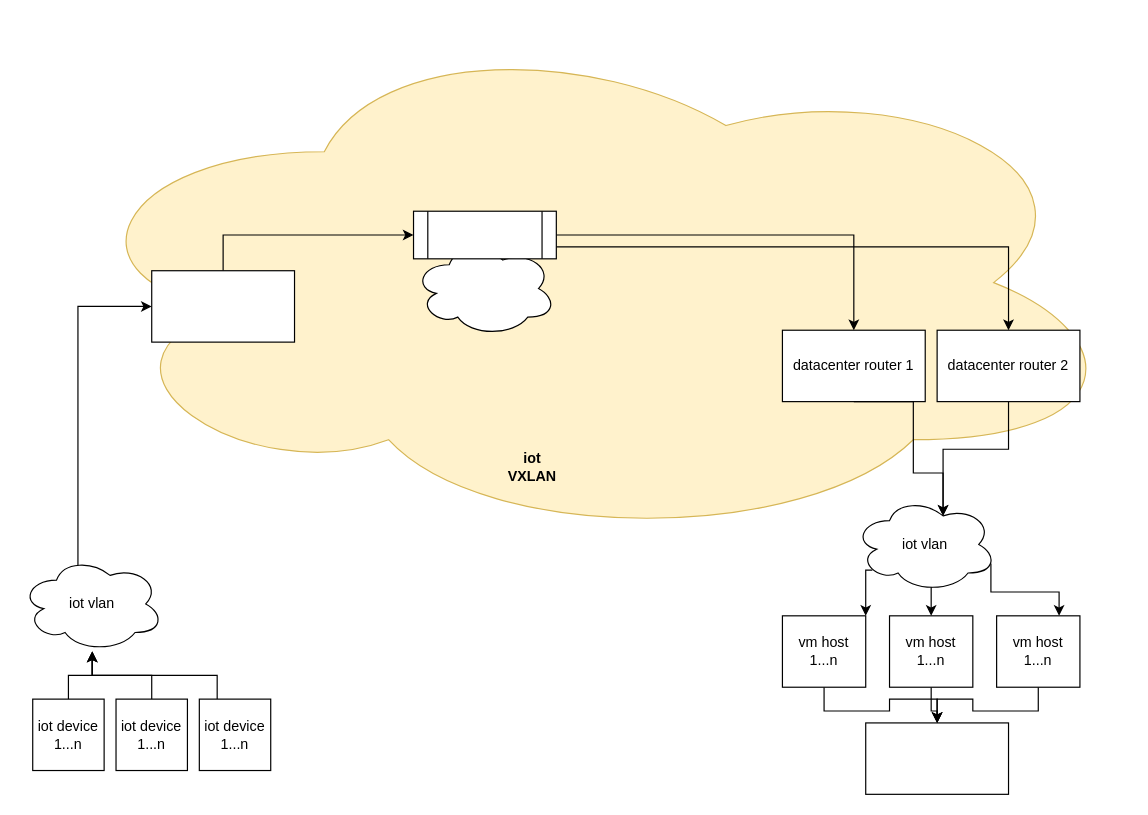
Image size: 1148x815. Some labels were removed from this diagram. Here are the shapes that lost their labels. From the top down, the centre of each, then its label:
pixel 484 234: tailscale tailnet
pixel 223 306: home router
pixel 484 288: internet
pixel 937 758: homeassistant
